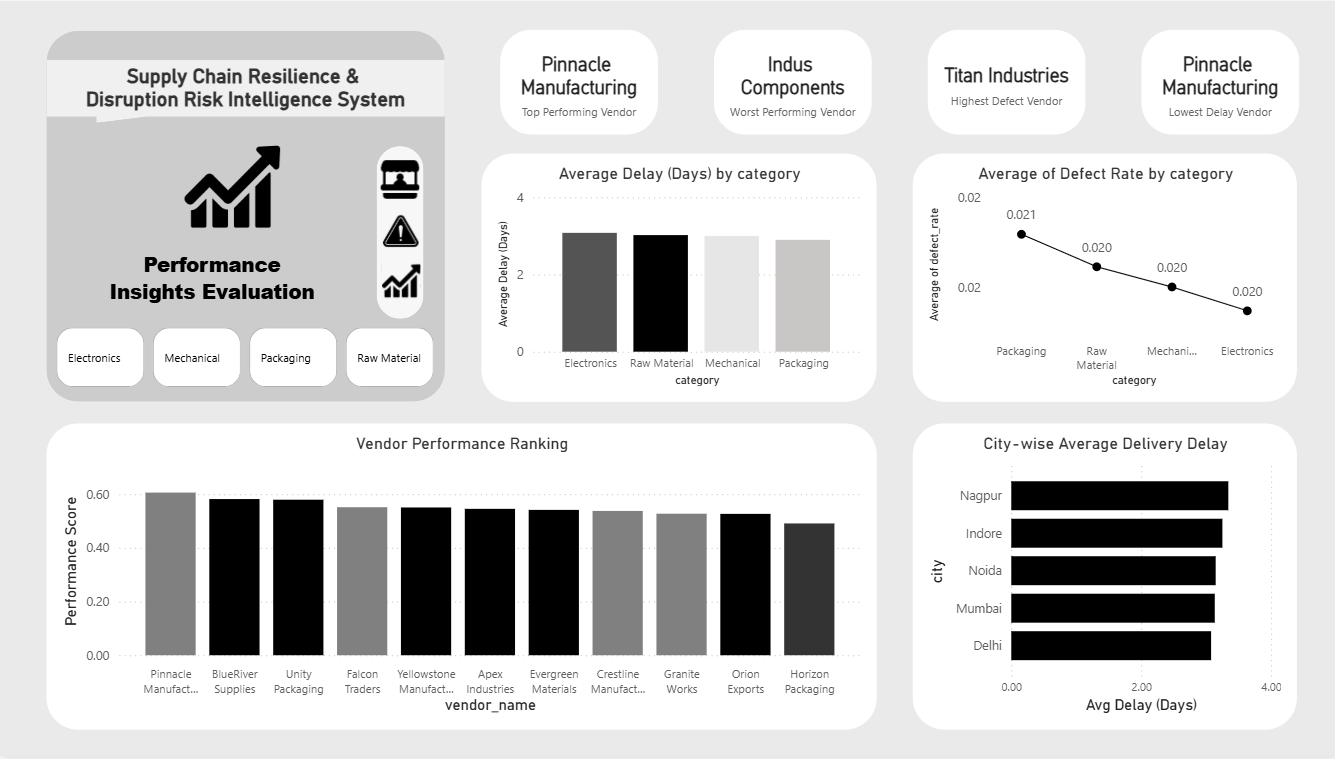

What the dashboard file says about the page in this screenshot:
{"tool":"powerbi","page":{"name":"Performance","canvas":[1280,720],"ordinal":2},"visuals":[{"type":"card","fields":{"Values":["All_Measures.Best Vendor"]},"box":[478.8,28,150,100],"z":0},{"type":"shape","box":[45,28.3,380,353.3],"z":1000},{"type":"card","fields":{"Values":["All_Measures.Lowest Delay Vendor"]},"box":[1090,28,150,100],"z":2000},{"type":"card","fields":{"Values":["All_Measures.Worst Vendor"]},"box":[682.5,28,150,100],"z":3000},{"type":"card","fields":{"Values":["All_Measures.Highest Defect Vendor"]},"box":[886.3,28,150,100],"z":4000},{"type":"columnChart","fields":{"Category":["procurement_risk_db vendor_dependency_risk.category"],"Y":["All_Measures.Average Delay (Days)"]},"box":[460,145,376.7,236.7],"z":5000},{"type":"lineChart","title":"Average of Defect Rate by category","fields":{"Category":["procurement_risk_db vendor_dependency_risk.category"],"Y":["Avg(procurement_risk_db vendor_performance_summary.defect_rate)"]},"box":[871.7,145,366.7,236.7],"z":6000},{"type":"columnChart","title":"Vendor Performance Ranking","fields":{"Category":["procurement_risk_db vendor_dependency_risk.vendor_name"],"Series":["procurement_risk_db vendor_dependency_risk.category"],"Y":["All_Measures.Performance Score"]},"box":[45,403.3,791.7,291.7],"z":7000},{"type":"shape","box":[45.3,56.3,380.1,60.4],"z":8000},{"type":"textbox","box":[45.3,56.3,380.1,60.4],"z":9000},{"type":"image","box":[158.3,131.7,128.3,91.7],"z":10000},{"type":"shape","box":[360,138.3,45,165],"z":11000},{"type":"actionButton","box":[360.9,196.2,43.9,45.3],"z":12000},{"type":"actionButton","box":[361.7,244.5,45,45],"z":13000},{"type":"actionButton","box":[360,147.9,45,45],"z":14000},{"type":"clusteredBarChart","title":"City-wise Average Delivery Delay","fields":{"Y":["All_Measures.Average Delay (Days)"],"Category":["procurement_risk_db vendor_performance_summary.city"]},"box":[871.7,403.3,366.7,291.7],"z":15000},{"type":"advancedSlicerVisual","fields":{"Values":["procurement_risk_db vendor_dependency_risk.category"]},"box":[30.2,306,413,67.2],"z":16000},{"type":"textbox","box":[66.8,232.7,272.7,66.8],"z":17000}]}

Visuals, with their boxes in screenshot pixels (x1, y1, x2, y2), scaled from the page's 1280x720 canvas onto the 1335x759 screenshot:
card - All_Measures.Best Vendor: region(499, 30, 656, 135)
shape: region(47, 30, 443, 402)
card - All_Measures.Lowest Delay Vendor: region(1137, 30, 1293, 135)
card - All_Measures.Worst Vendor: region(712, 30, 868, 135)
card - All_Measures.Highest Defect Vendor: region(924, 30, 1081, 135)
columnChart - procurement_risk_db vendor_dependency_risk.category x All_Measures.Average Delay (Days): region(480, 153, 873, 402)
"Average of Defect Rate by category" lineChart: region(909, 153, 1292, 402)
"Vendor Performance Ranking" columnChart: region(47, 425, 873, 733)
shape: region(47, 59, 444, 123)
textbox: region(47, 59, 444, 123)
image: region(165, 139, 299, 236)
shape: region(375, 146, 422, 320)
actionButton: region(376, 207, 422, 255)
actionButton: region(377, 258, 424, 305)
actionButton: region(375, 156, 422, 203)
"City-wise Average Delivery Delay" clusteredBarChart: region(909, 425, 1292, 733)
advancedSlicerVisual - procurement_risk_db vendor_dependency_risk.category: region(31, 323, 462, 393)
textbox: region(70, 245, 354, 316)
